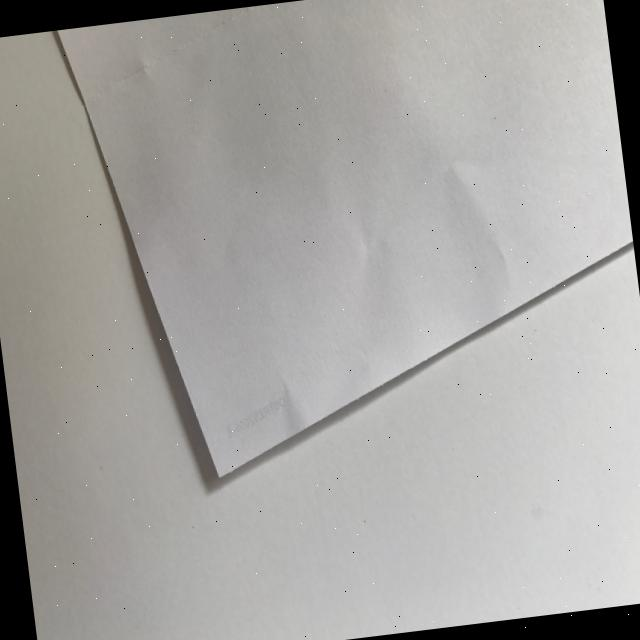paper: (53, 0, 640, 491)
